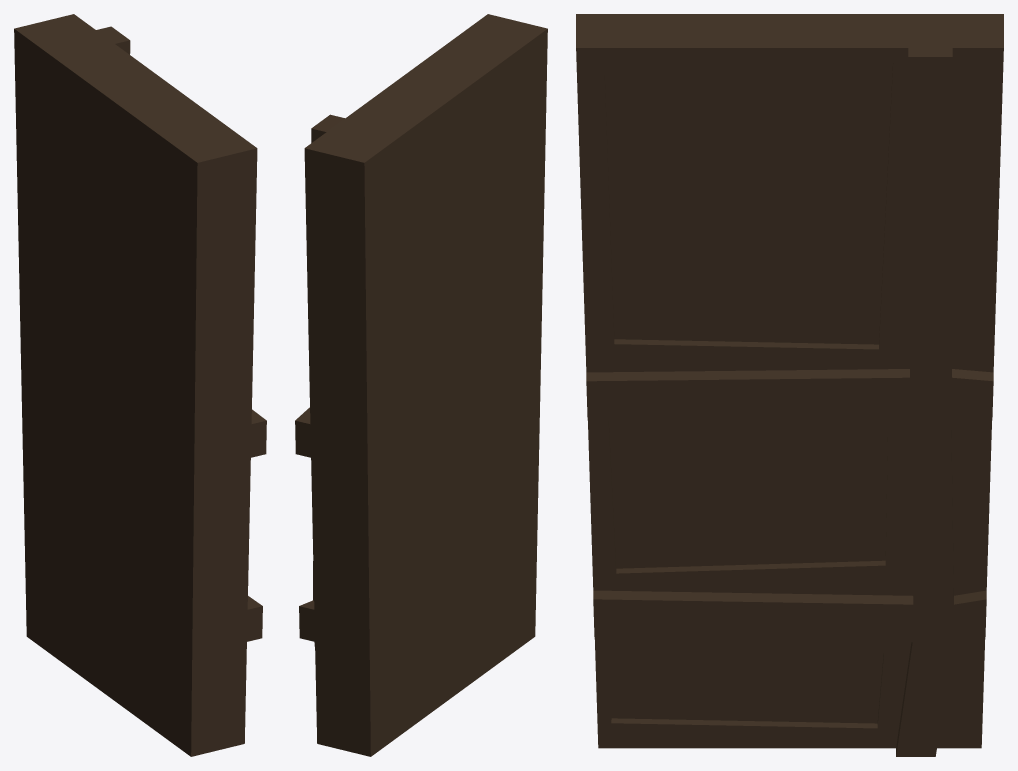
Rendered from FlatDoor.fbx.
The picture shows the model from 3 angles, left to right: view 1: azimuth 30°, elevation 25°; view 2: azimuth 150°, elevation 25°; view 3: azimuth 270°, elevation 25°; orthographic projection. The views are drawn at different scales.
Parts seen in each view (by area): view 1: Cube.176; view 2: Cube.176; view 3: Cube.176.
Part boxes in pixels (bbox=[...]): Cube.176: bbox=[14, 14, 266, 756]; Cube.176: bbox=[295, 14, 547, 756]; Cube.176: bbox=[576, 14, 1003, 756].
Size of the model in its own units: 17.74 by 136 by 74.92.
